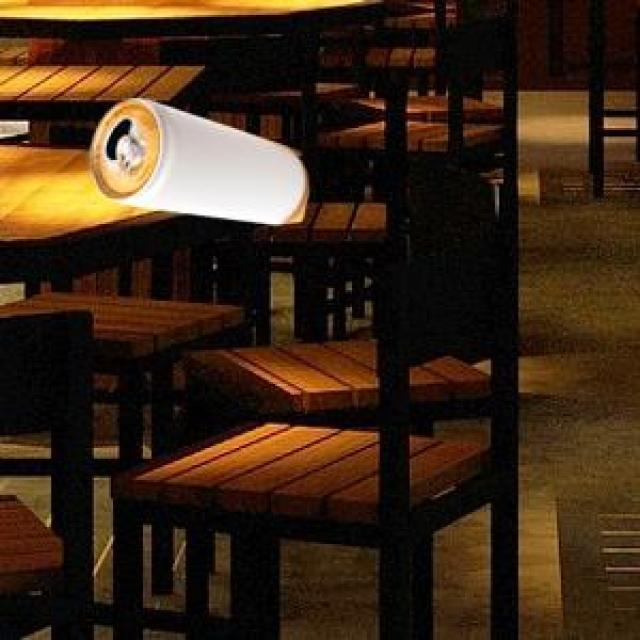Can: (86, 97, 306, 221)
